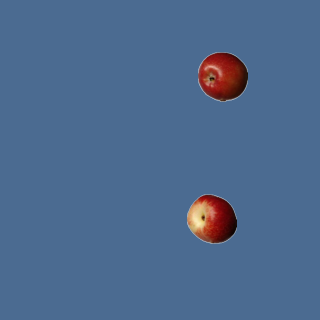Apple Braeburn: (197, 51, 247, 101)
Nectarine: (186, 193, 236, 243)
